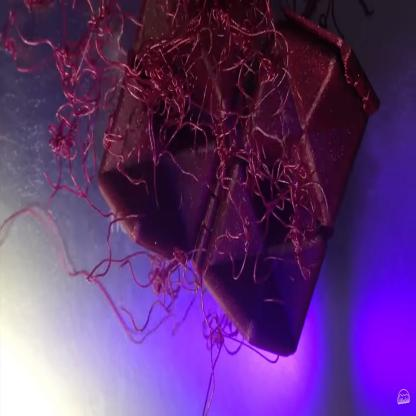fail: (54, 16, 317, 318)
